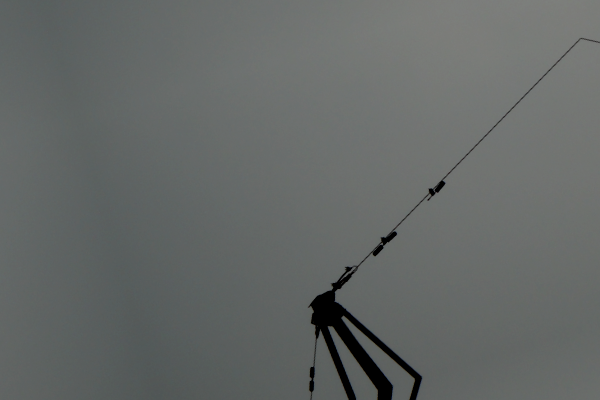damper: (370, 229, 398, 257), (307, 362, 316, 394)
damper_defect: (425, 179, 446, 202)
